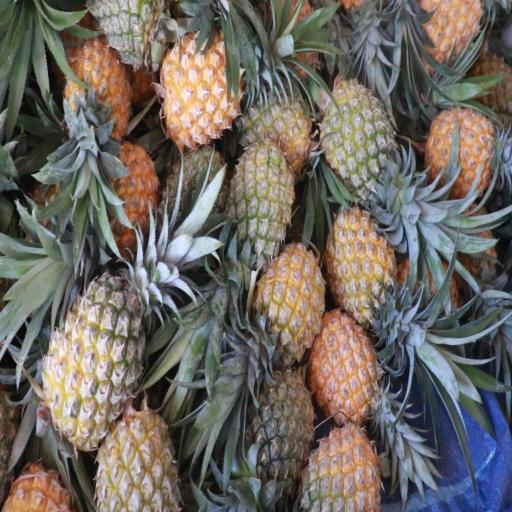------------------------------: (46, 274, 144, 440), (96, 403, 178, 512), (248, 68, 318, 171)
Pineapple - v8 v1: (160, 34, 246, 138), (327, 209, 400, 324), (310, 317, 380, 429), (427, 101, 503, 200), (63, 40, 129, 144), (258, 250, 322, 356), (413, 0, 487, 76), (102, 144, 158, 242)
